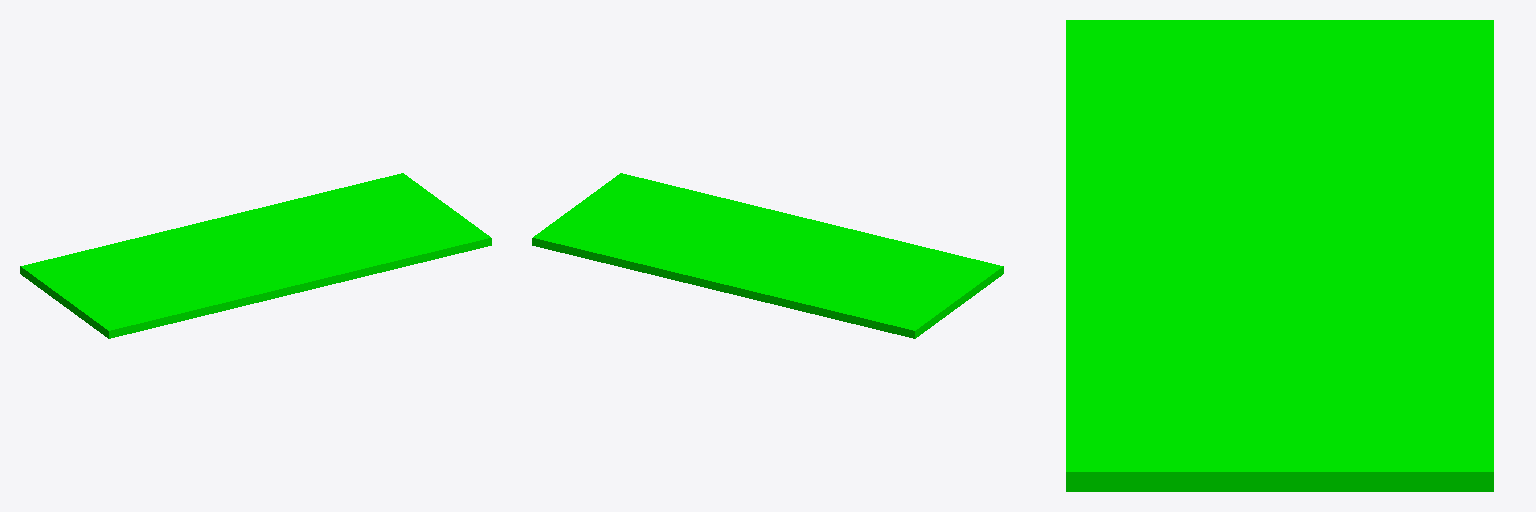
The robot description file, URDF, robot "meta":
<?xml version="1.0"?>
<robot name="meta">

<!-- Definicion de materiales -->
    <material name="green">
        <color rgba="0.0 1.0 0.0 1.0"/>
    </material>

<!-- Definicion de links -->
    <link name="base_link">
        <inertial>
        <origin xyz="0.0 15.0 0.0" rpy="0.0 0.0 0.0"/>
            <mass value="40.0"/>
            <inertia ixx="0.38" ixy="0.0" ixz="0.0" iyy="0.075" iyz="0.0" izz="84.0"/>
        </inertial>

        <visual>
            <origin xyz="0.0 15.0 0.0" rpy="0.0 0.0 0.0"/>
            <geometry>
                <box size="2.5 1.0 0.05"/>
            </geometry>
            <material name="green"/> 
        </visual>

        <collision>
            <origin xyz="0.0 15.0 0.0" rpy="0.0 0.0 0.0"/>
            <geometry>
                <box size="2.5 1.0 0.05"/>
            </geometry>
            
        </collision>
        
    </link>
    
</robot>

--- What the picture shows (computed from the rendered views, not written in the file) ---
3 views of the same robot in one strip: view 1: azimuth 30°, elevation 25°; view 2: azimuth 150°, elevation 25°; view 3: azimuth 270°, elevation 25° (orthographic).
Robot: meta — 1 links, 0 joints (none); root link base_link; default pose: all joints at 0.
Links seen in each view (by area): view 1: base_link; view 2: base_link; view 3: base_link.
Link boxes in pixels (left/top/right/bottom): base_link: left=20, top=173, right=491, bottom=338; base_link: left=532, top=173, right=1003, bottom=338; base_link: left=1066, top=20, right=1493, bottom=491.
Bounding box of the posed robot: 2.5 × 1 × 0.05 m (x, y, z).
Geometry: primitives only (box / cylinder / sphere), no mesh files.